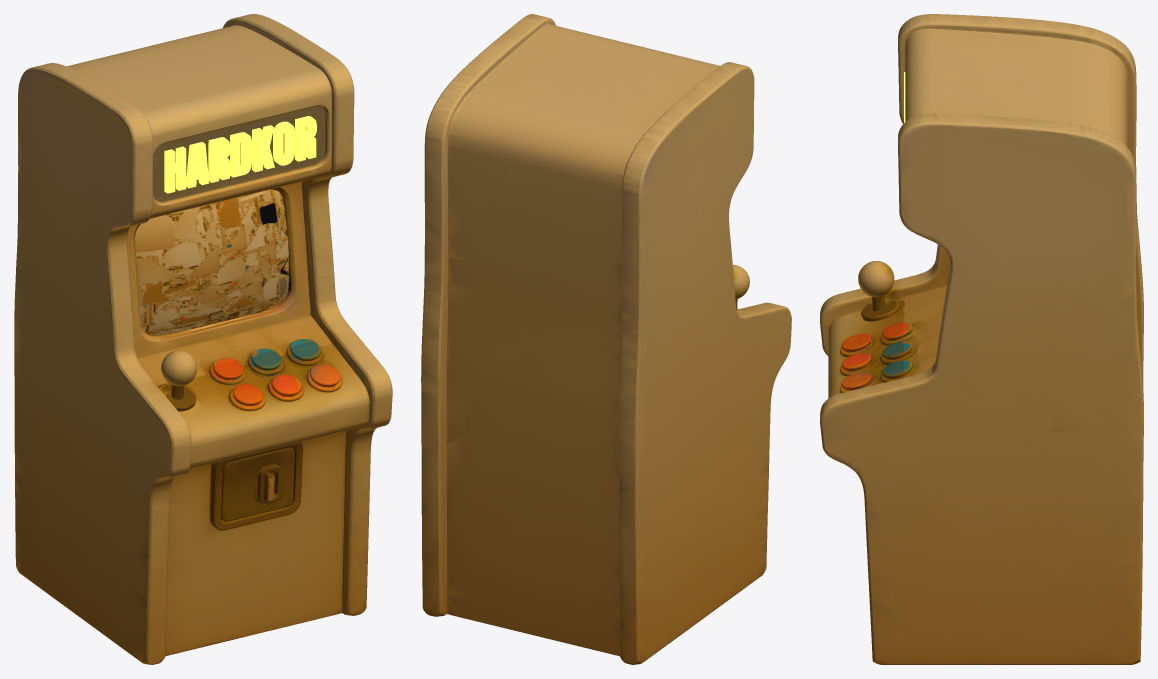
Rendered from ArcadeHardkor.fbx.
The picture shows the model from 3 angles, left to right: view 1: azimuth 30°, elevation 25°; view 2: azimuth 150°, elevation 25°; view 3: azimuth 270°, elevation 25°; orthographic projection. The views are drawn at different scales.
Parts seen in each view (by area): view 1: Arcade, Arcade.001; view 2: Arcade; view 3: Arcade.
Part boxes in pixels (left/top/right/bottom): Arcade: left=14, top=14, right=392, bottom=664; Arcade.001: left=135, top=189, right=289, bottom=335; Arcade: left=421, top=14, right=791, bottom=664; Arcade: left=820, top=14, right=1143, bottom=664.
Size of the model in its own units: 43.35 by 99.84 by 54.01.
3 materials, 2 textured.
